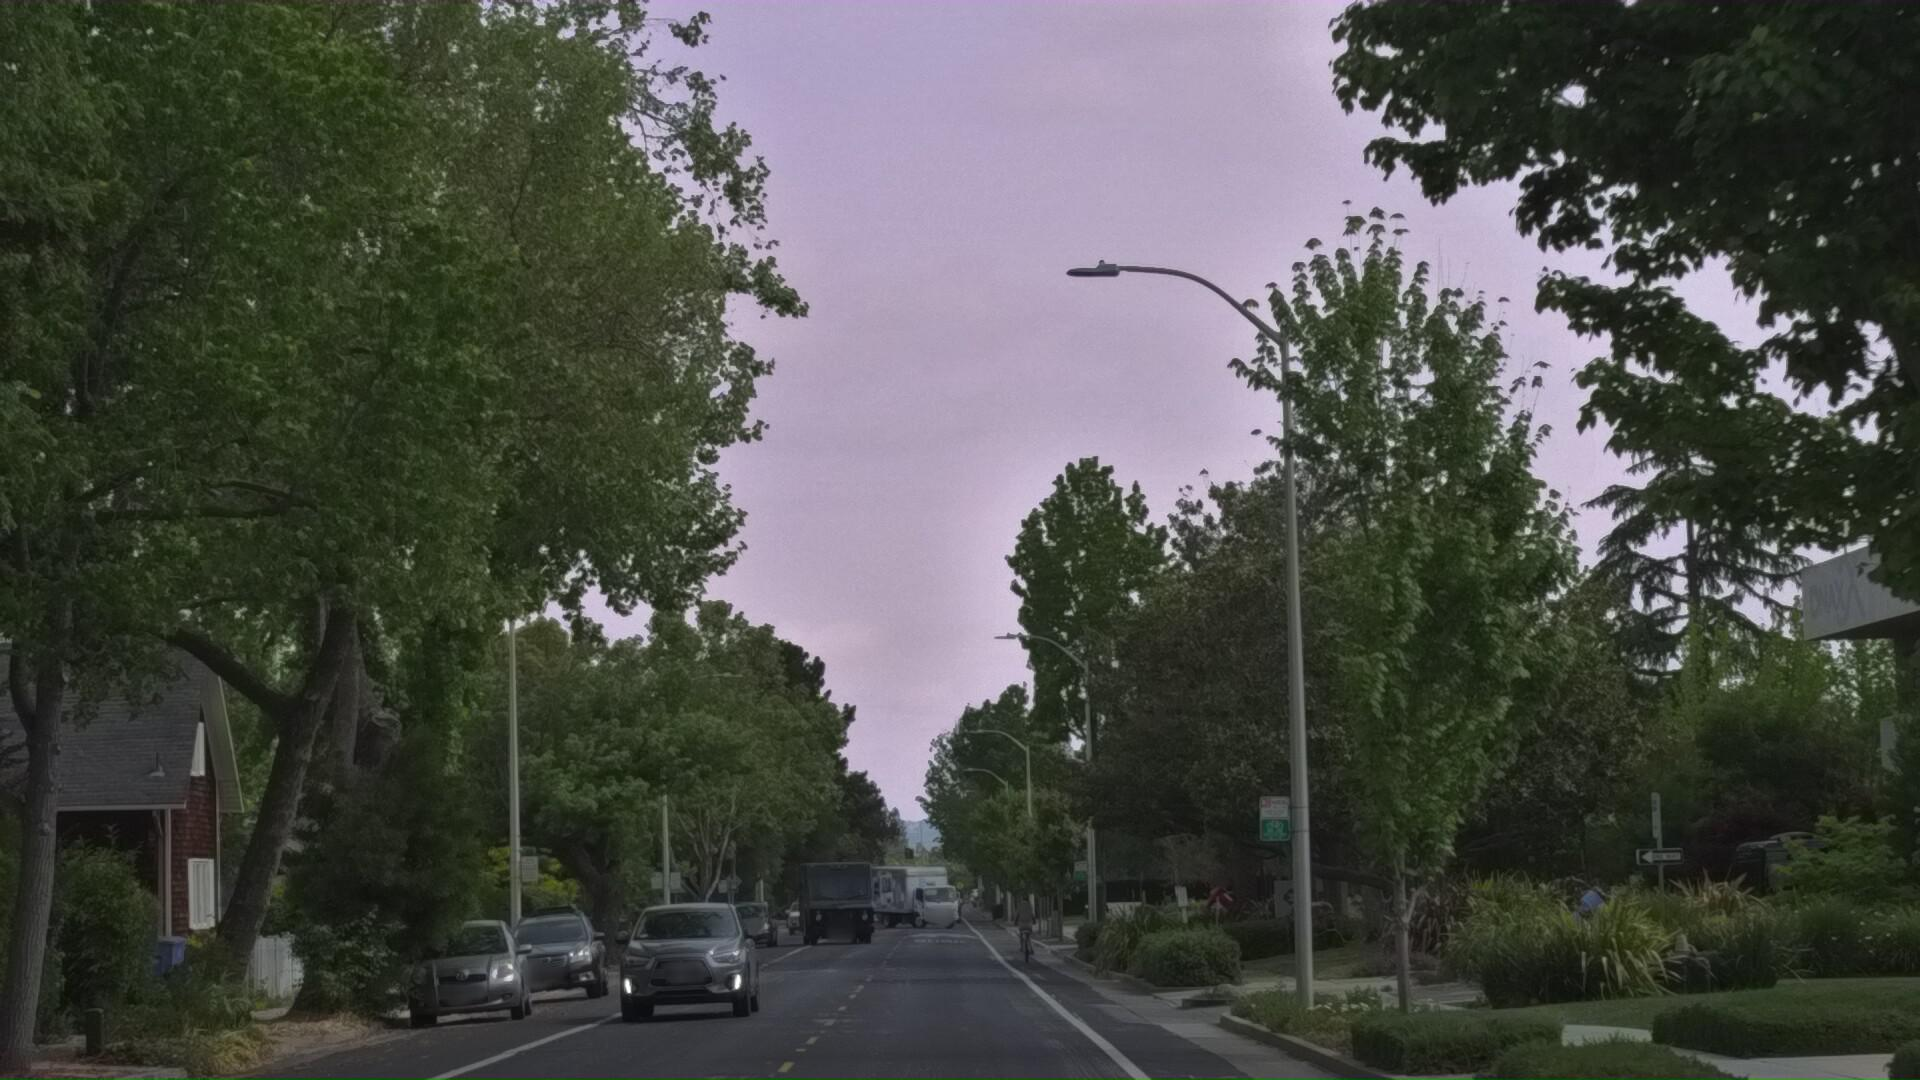car: (607, 996, 756, 1080), (489, 1001, 625, 1080), (397, 1013, 539, 1080)
